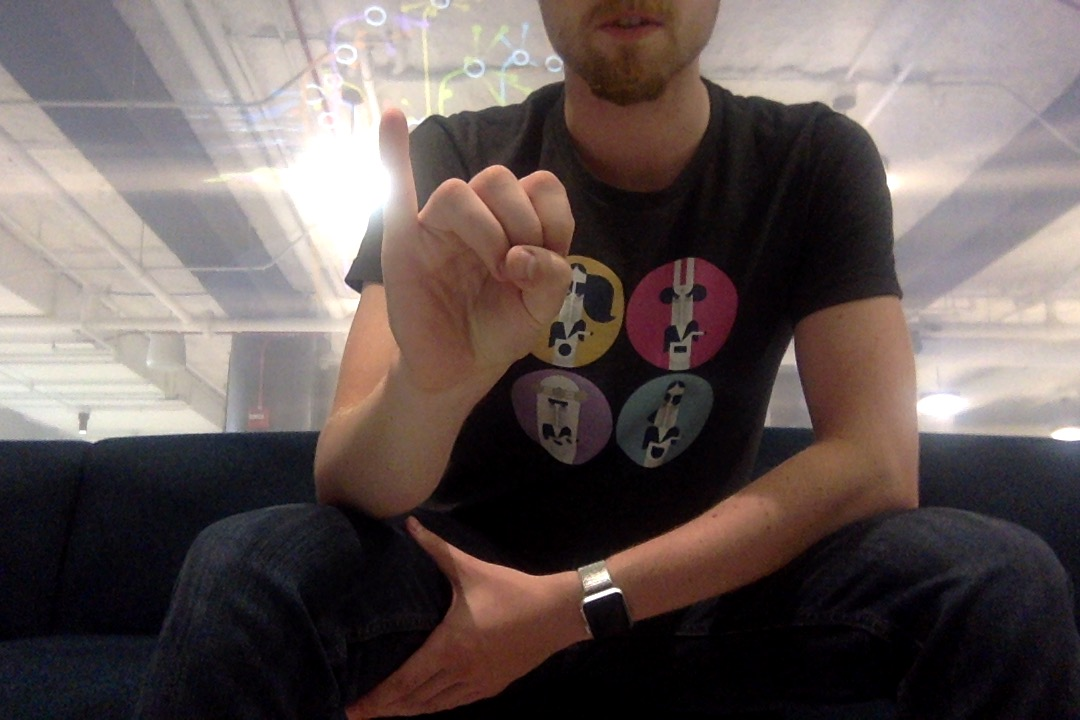i: (374, 106, 578, 363)
